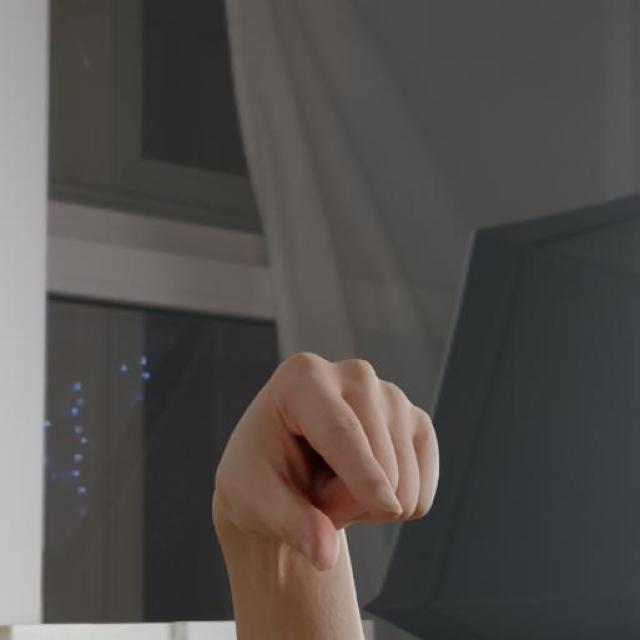P: (203, 350, 442, 574)
